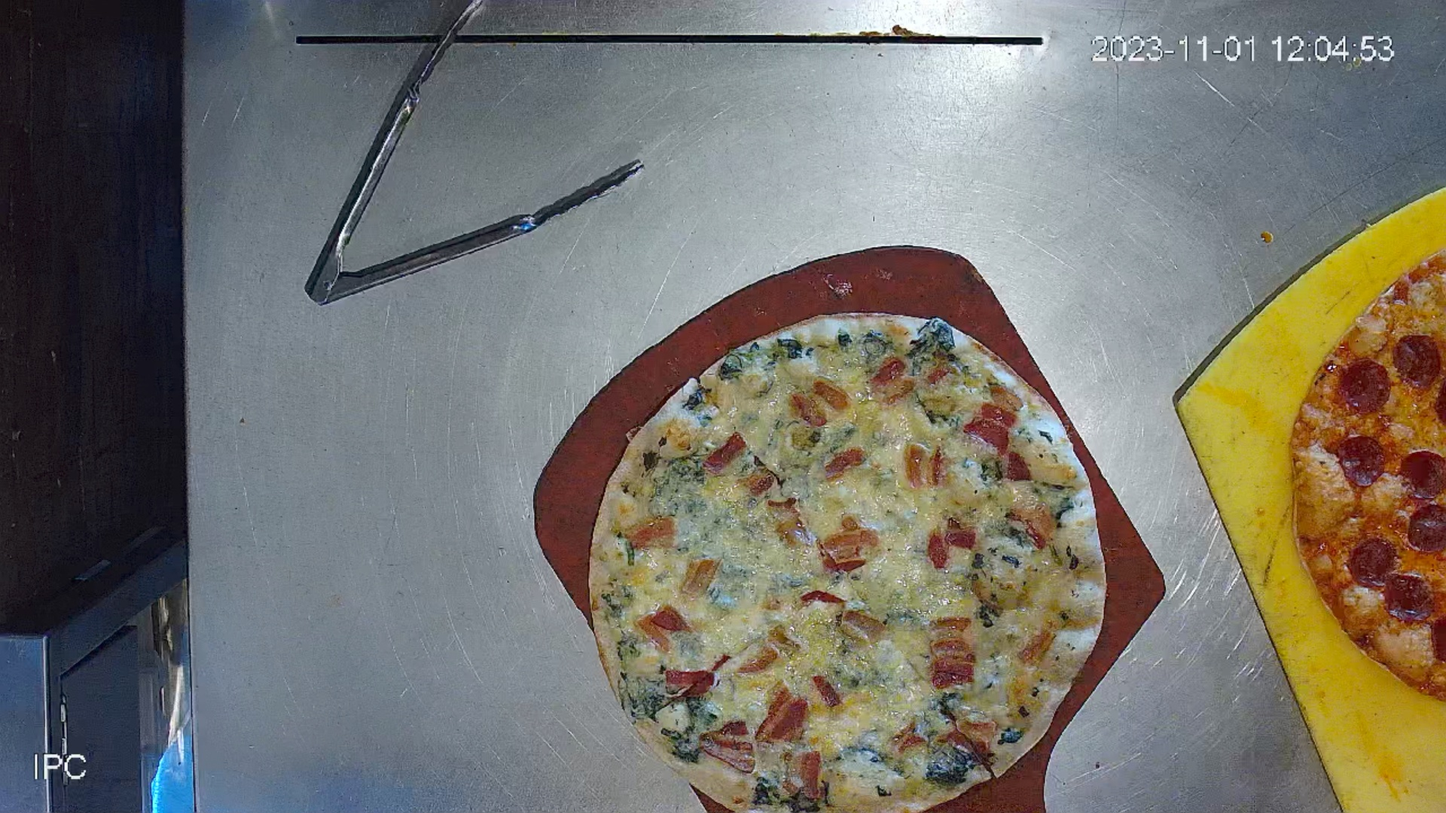pepporoni: (587, 314, 1101, 811), (1287, 242, 1446, 705)
